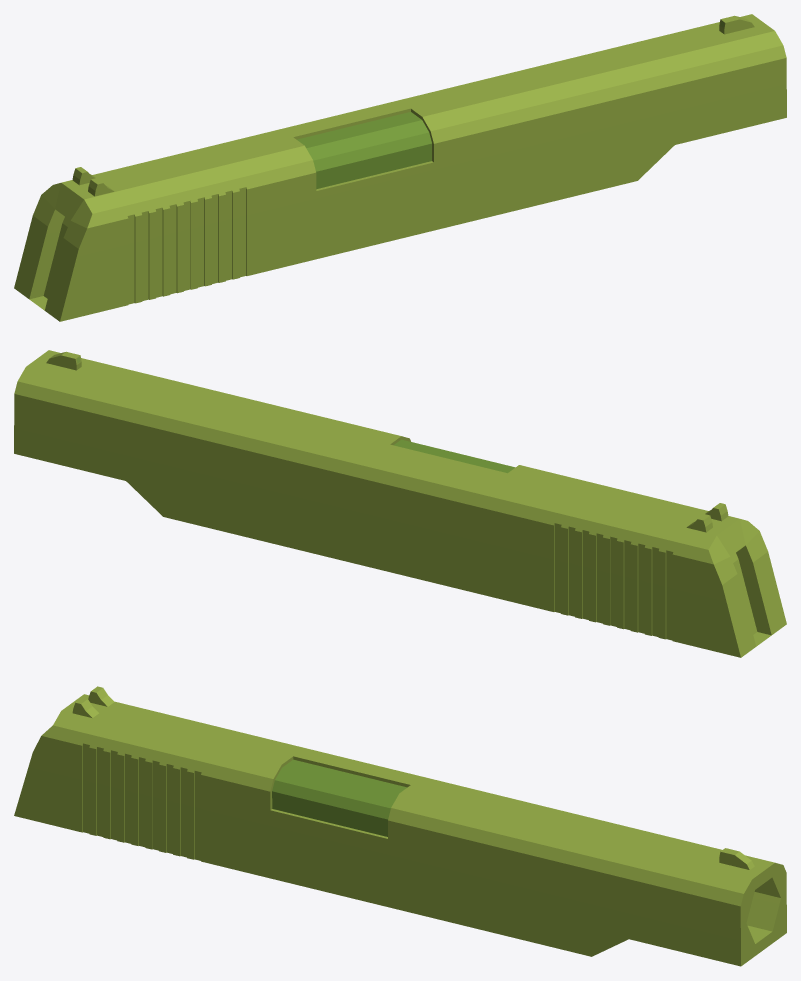
Rendered from Pistol2_05_2.fbx.
3 renders of one model, top to bottom at view 1: azimuth 30°, elevation 25°; view 2: azimuth 150°, elevation 25°; view 3: azimuth 330°, elevation 25°, orthographic.
Visible parts, largest first — view 1: Pistol2_05_2; view 2: Pistol2_05_2; view 3: Pistol2_05_2.
Boxes of the visible parts, x1=… form: Pistol2_05_2: x1=14, y1=14, x2=786, y2=321; Pistol2_05_2: x1=14, y1=350, x2=786, y2=657; Pistol2_05_2: x1=14, y1=686, x2=786, y2=966.
Bounding box in the file's own units: 0.225 × 0.0345 × 0.0246.
